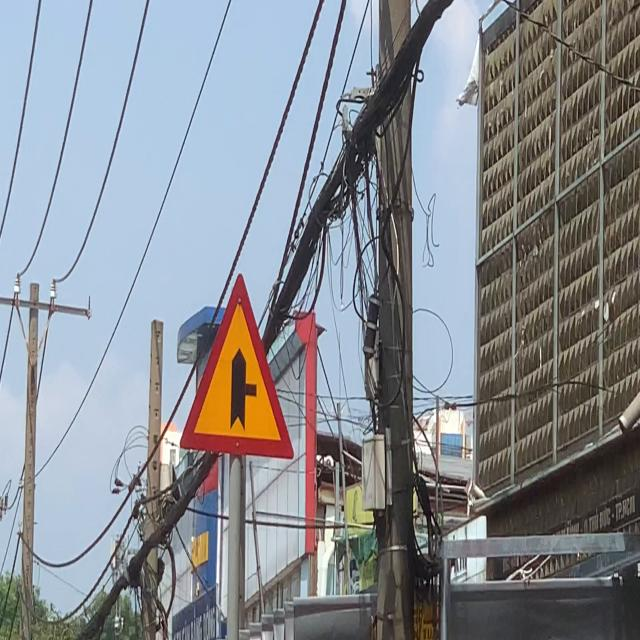Giao voi duong khong uu tien: (179, 272, 295, 462)
